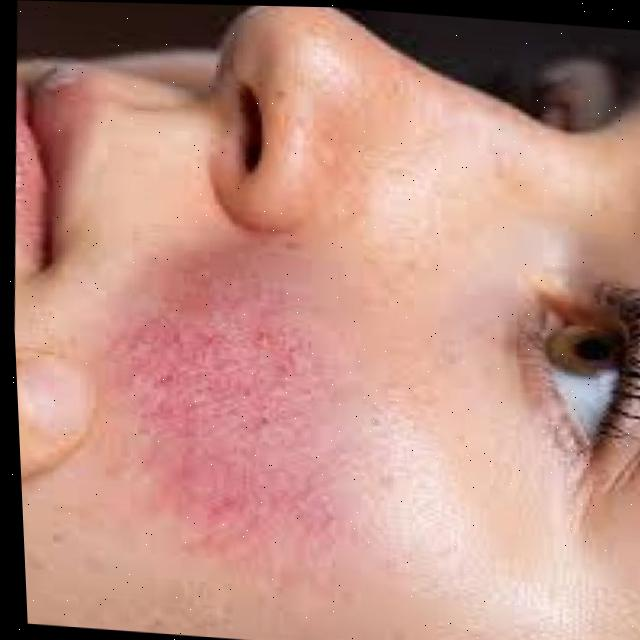Rosacea: (130, 238, 342, 570)
